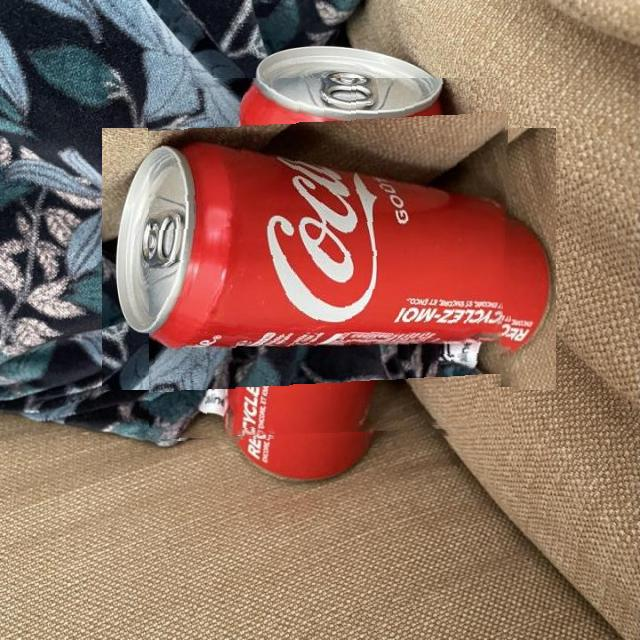recyclable: (149, 78, 510, 440)
